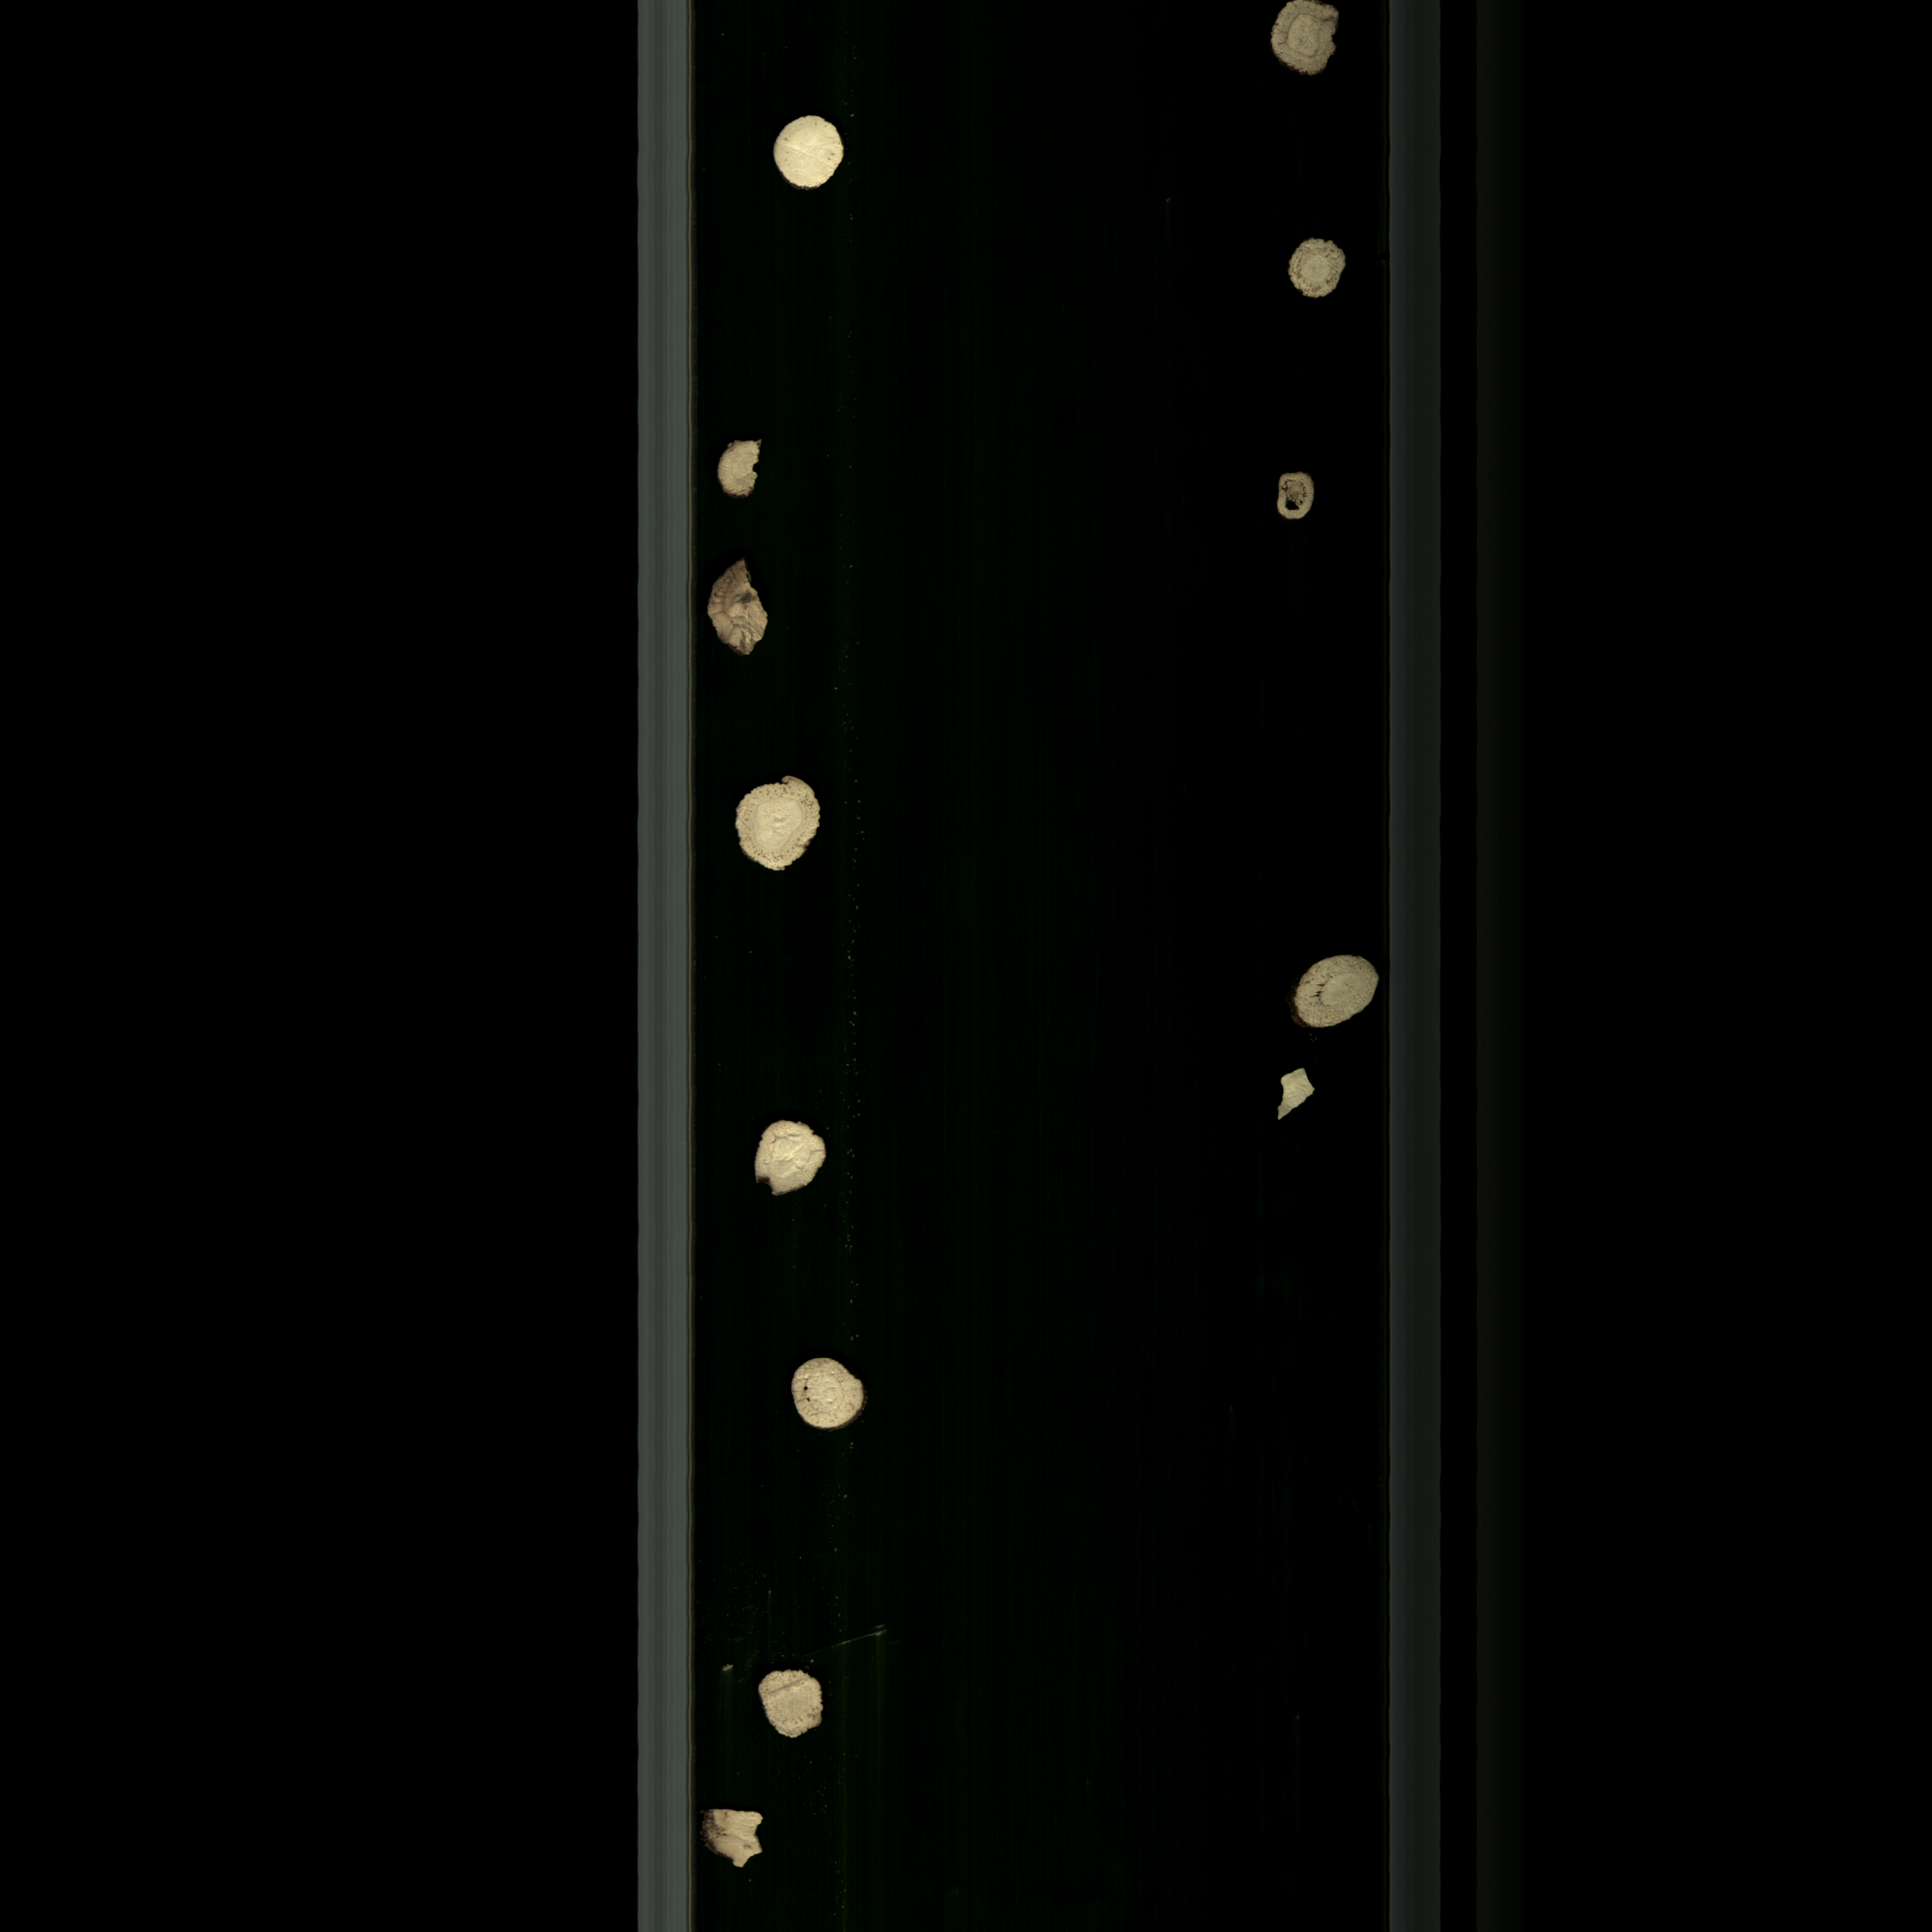debris: (699, 1801, 777, 1875)
distortion: (748, 1113, 833, 1207), (752, 1661, 833, 1752), (1260, 1063, 1315, 1129)
dreg: (713, 428, 768, 499)
hole: (787, 1353, 867, 1437)
moldy: (727, 766, 842, 878), (1256, 0, 1350, 92), (1299, 943, 1384, 1039), (706, 557, 775, 672), (1276, 232, 1346, 311), (1263, 465, 1325, 527)
